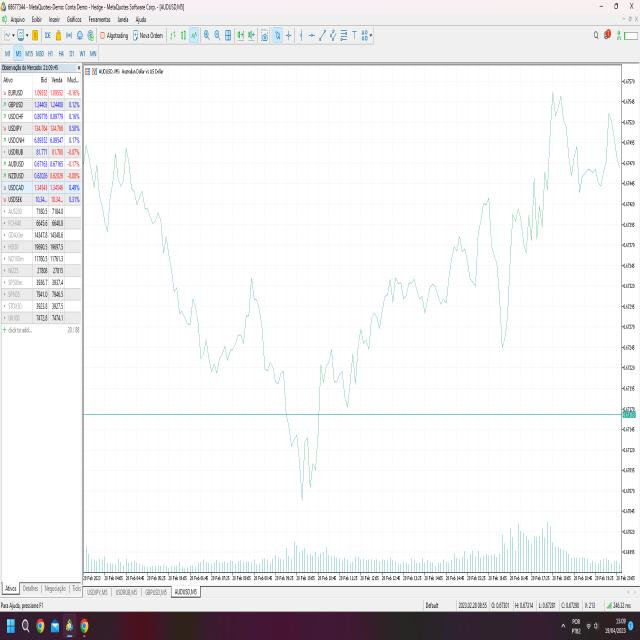bandeira_alta: (502, 164, 548, 373)
fundo_duplo: (279, 370, 323, 516)
